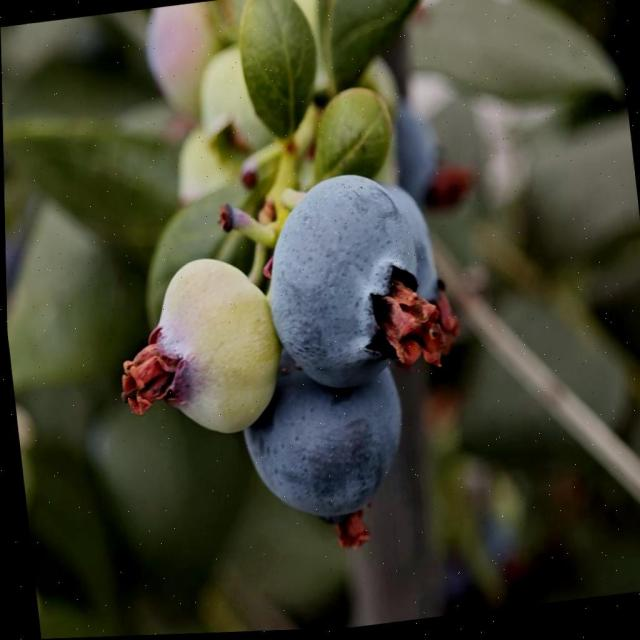RipeBlueBerry: (256, 166, 431, 402), (234, 358, 414, 548)
UnripeBlueBerry: (140, 247, 286, 448)
